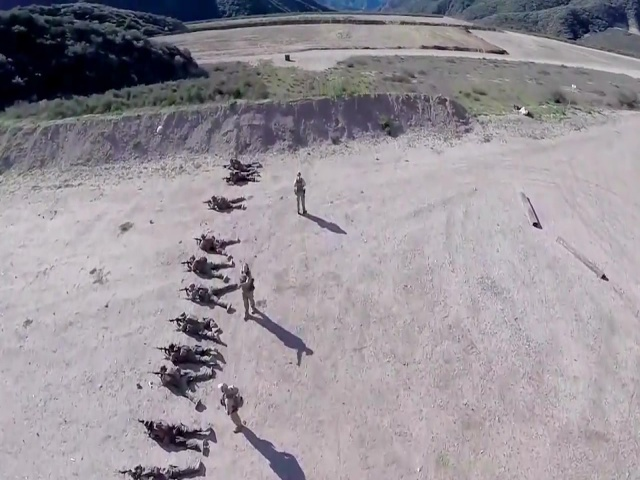person: (134, 415, 211, 455), (148, 364, 212, 412), (178, 281, 239, 311), (158, 340, 220, 368), (215, 379, 244, 436), (173, 311, 224, 342), (117, 462, 203, 480), (177, 255, 233, 280), (238, 261, 259, 321), (192, 233, 240, 257), (202, 195, 251, 214), (292, 171, 308, 217), (222, 171, 264, 184), (222, 160, 263, 173)
